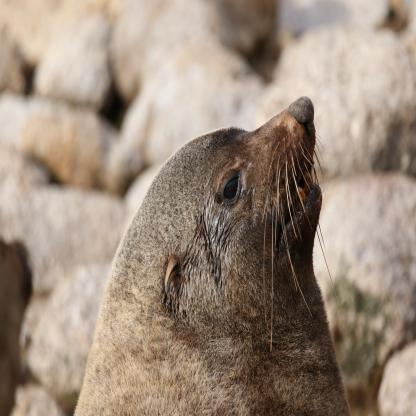face: (206, 93, 325, 257)
